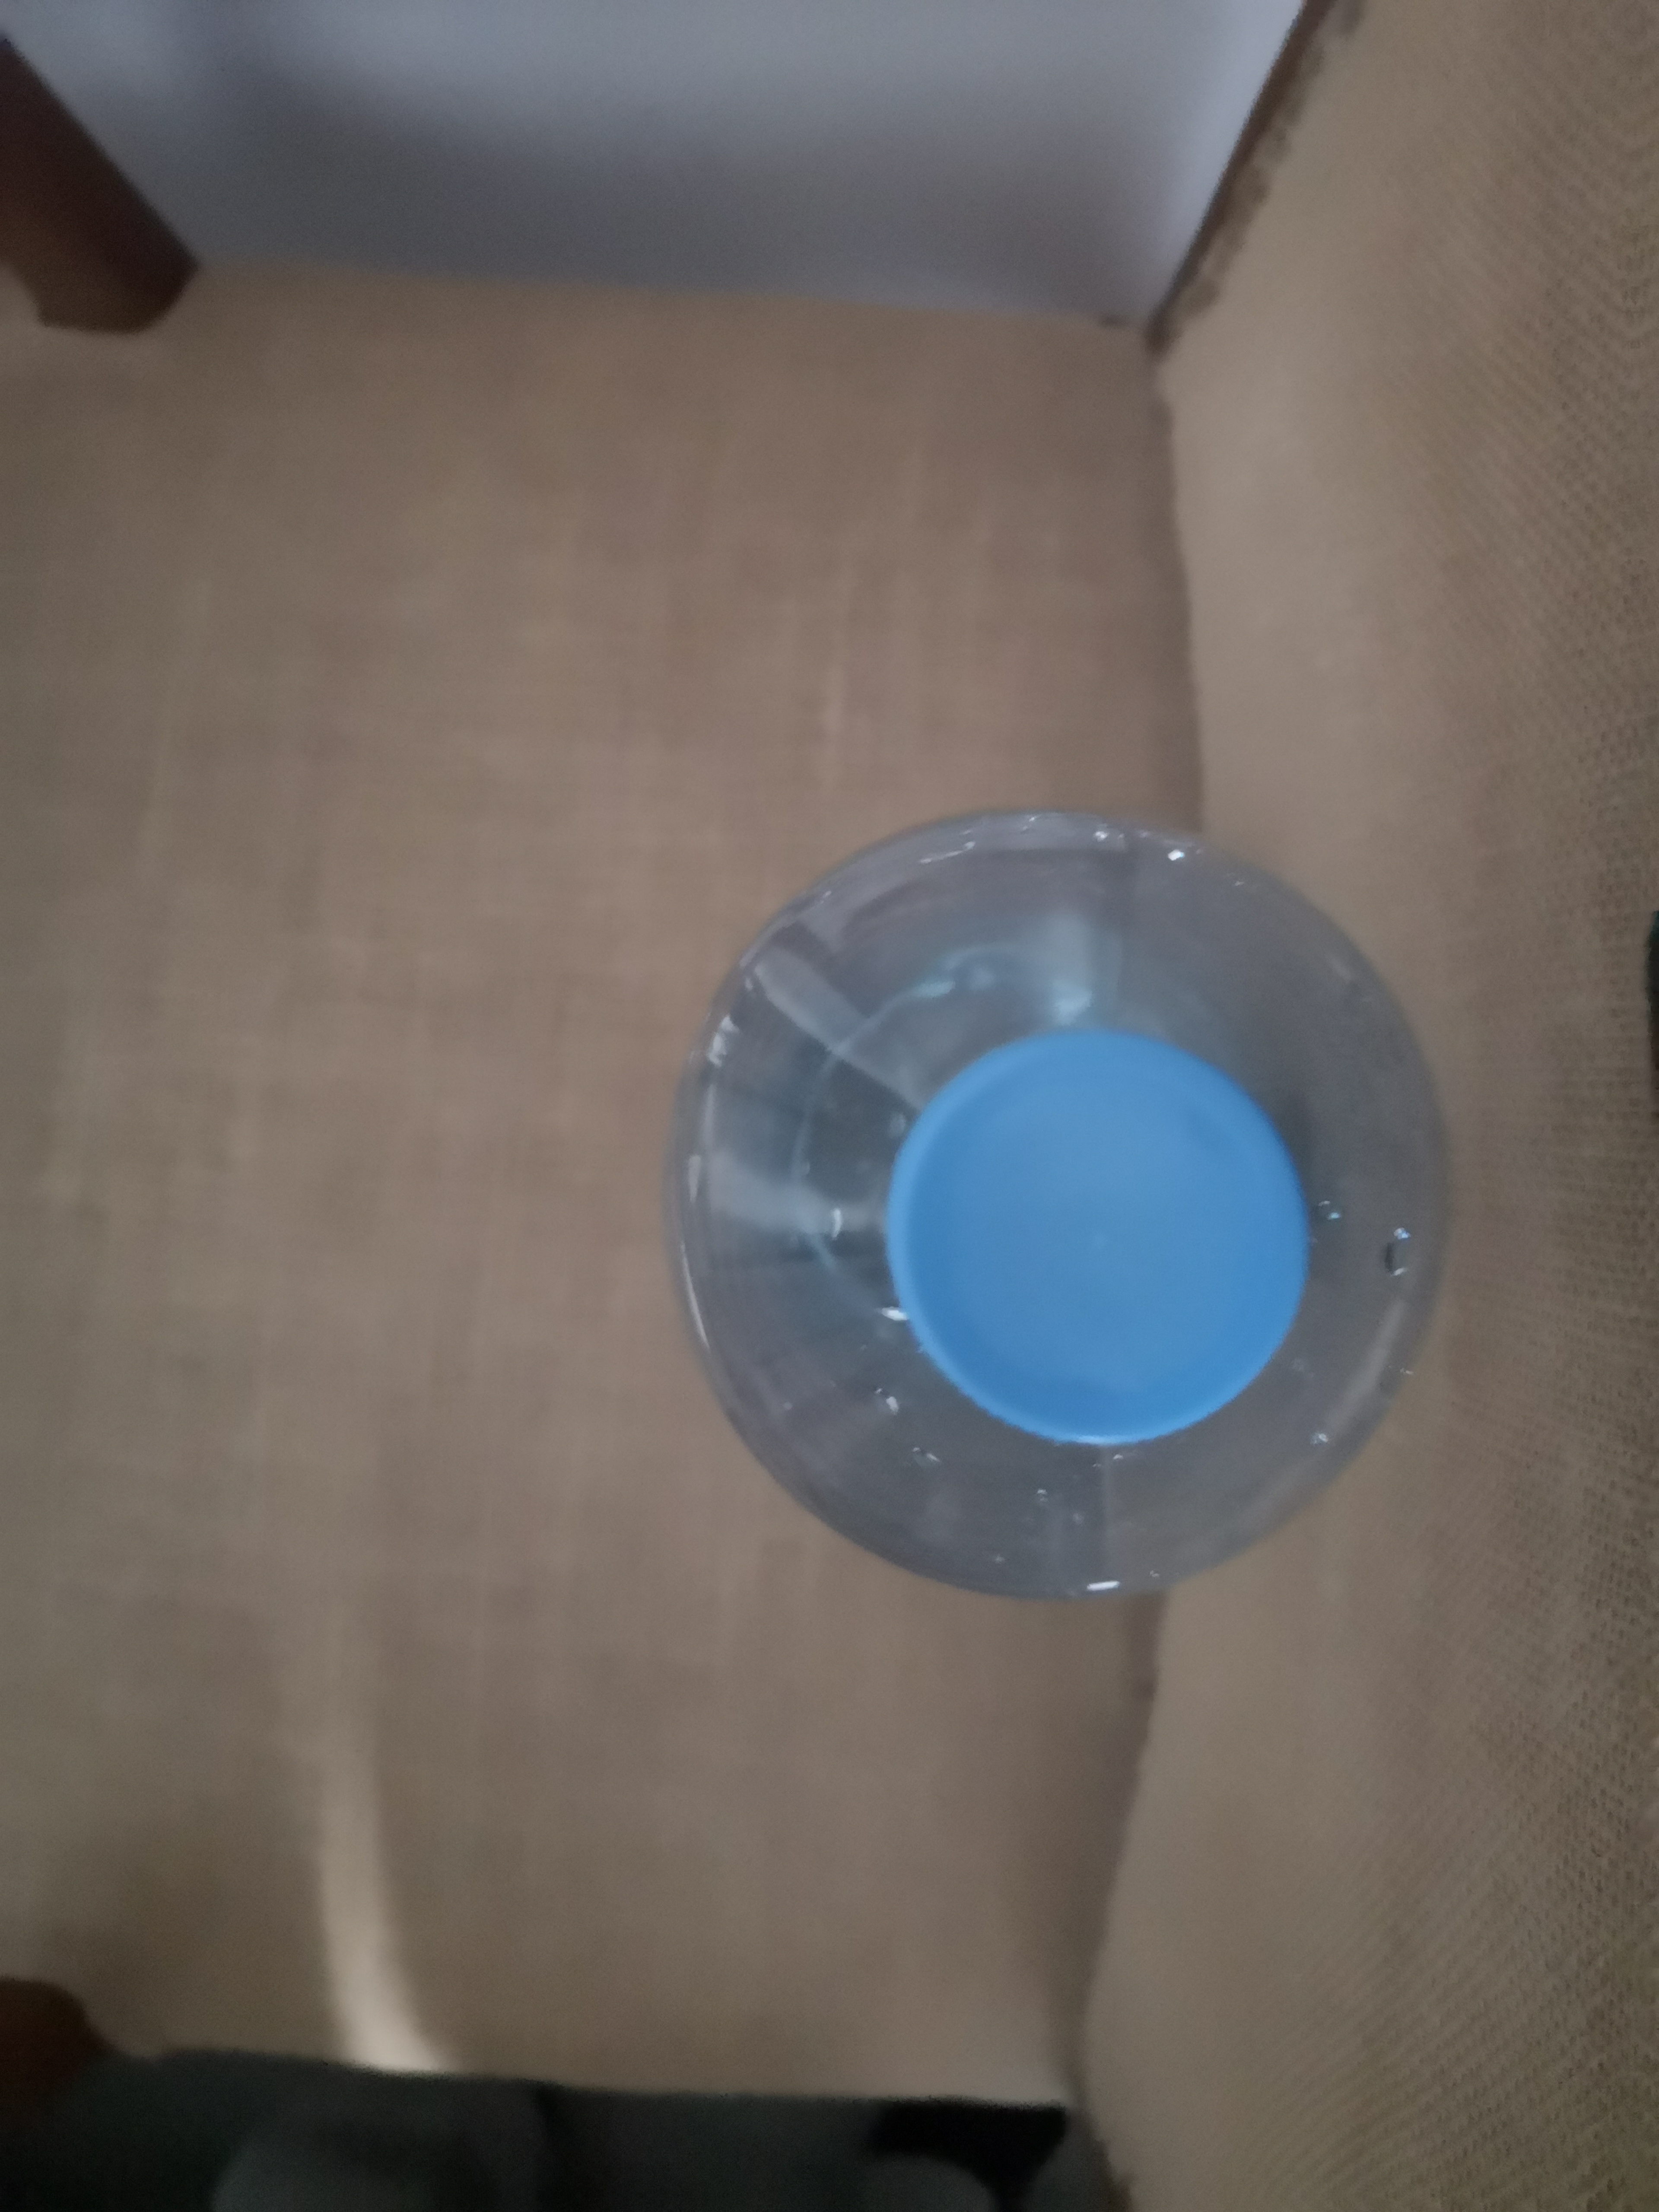plastic_bottle: (643, 775, 1493, 1623)
